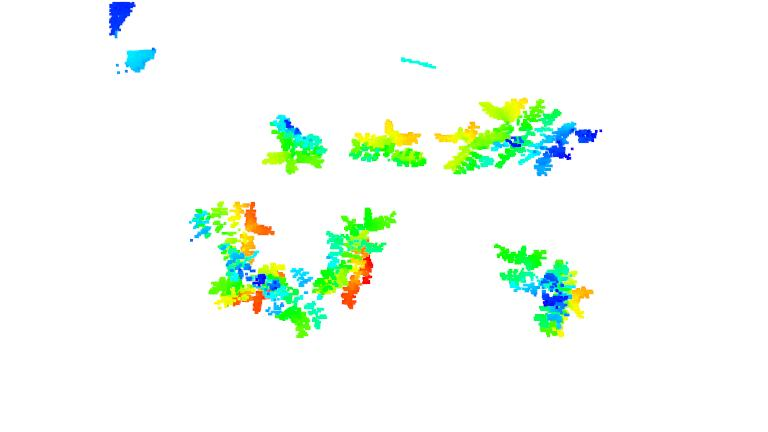chickpea: (494, 243, 594, 341), (209, 262, 326, 340), (309, 206, 395, 310), (482, 97, 595, 176), (186, 198, 272, 268), (257, 114, 329, 174), (349, 119, 429, 171), (434, 123, 501, 176)
